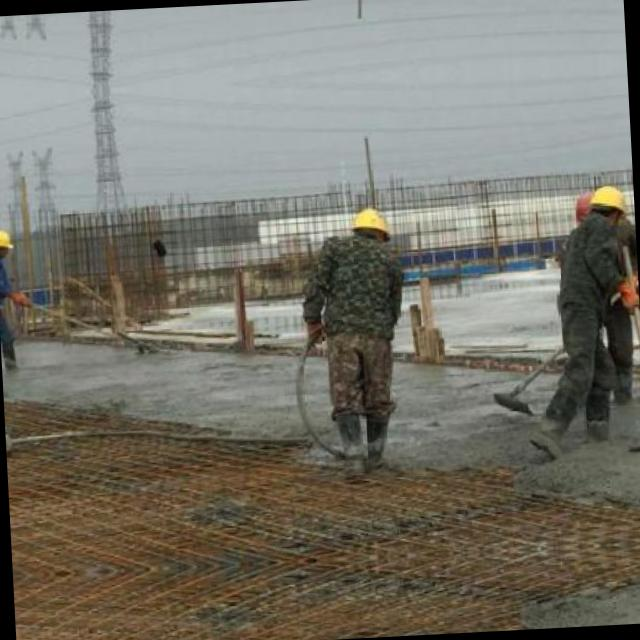helmet: (346, 202, 396, 254), (580, 183, 627, 233), (0, 224, 11, 257)
